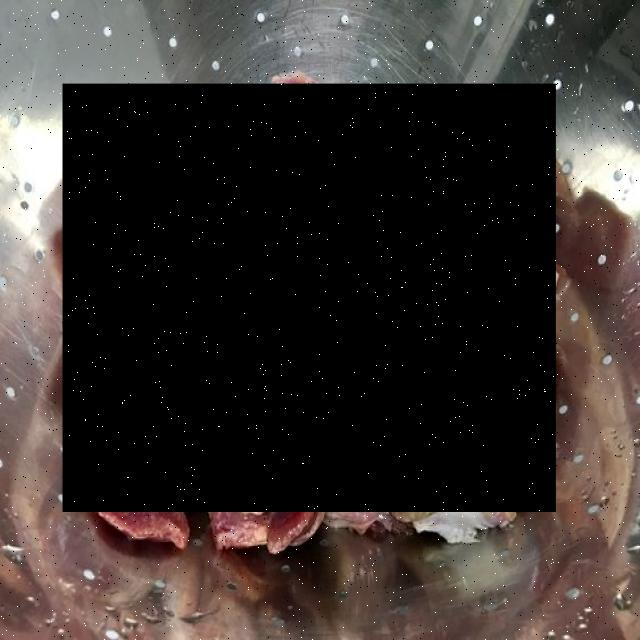Chicken_Gizzards: (64, 85, 557, 513)
